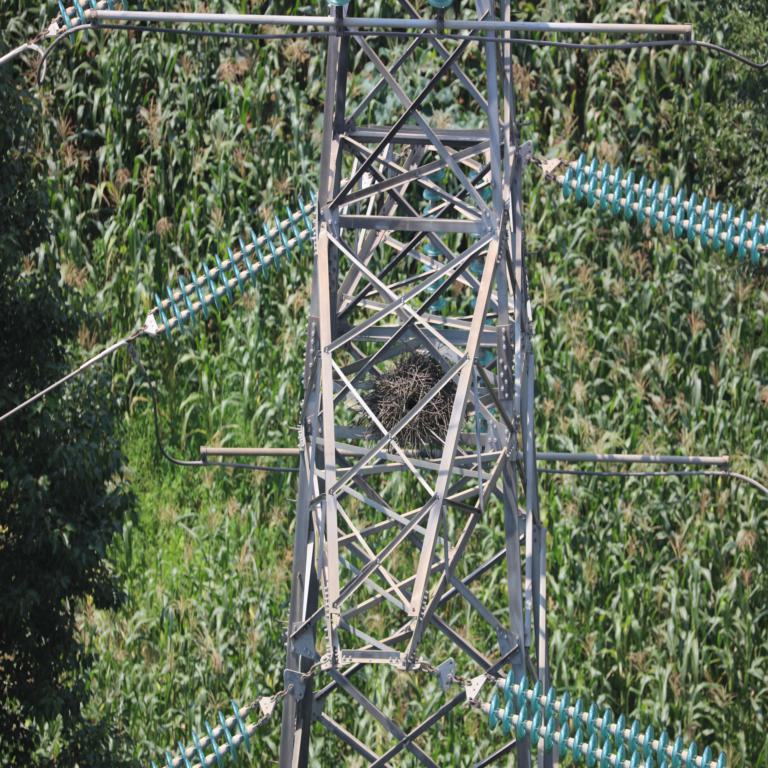nest: (369, 355, 453, 451)
